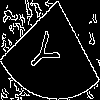Y: (25, 24, 66, 79)
